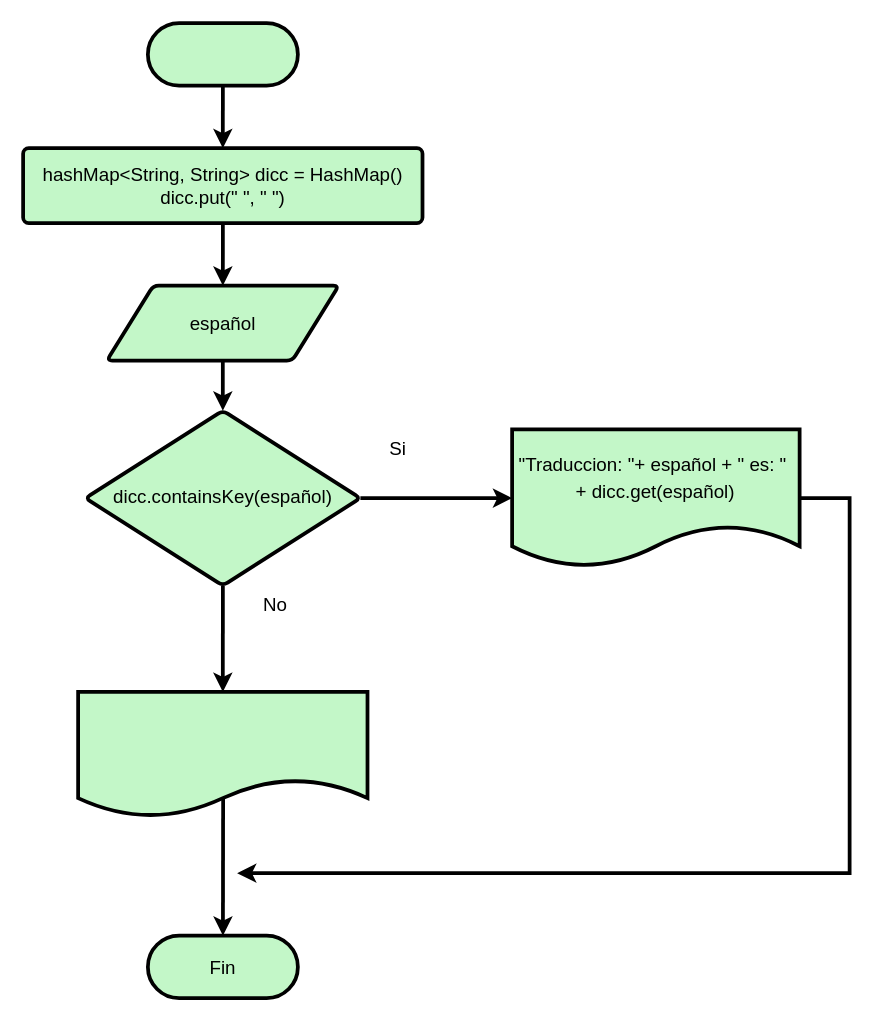
Image size: 884x1021. Some labels were removed from this diagram. Here are the shapes that lost their labels. From the top down, the centre of each, then its label:
(222,54): Inicio
(222,753): "Palabra no existe diccionario"
